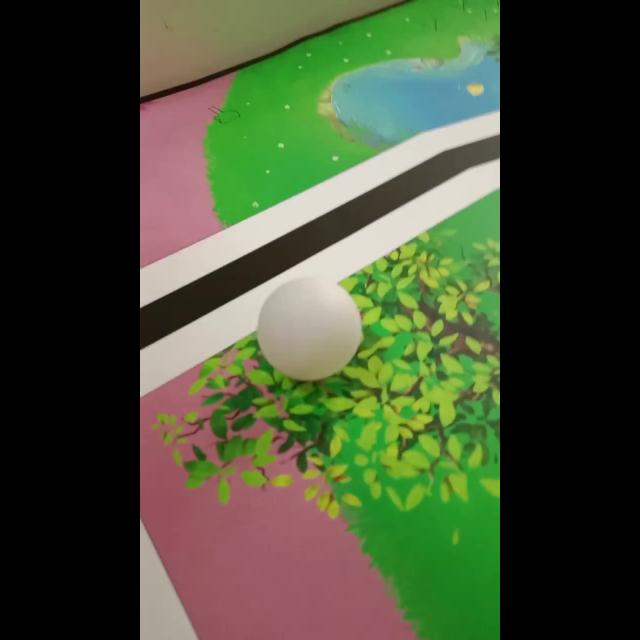white ball: (256, 274, 364, 382)
